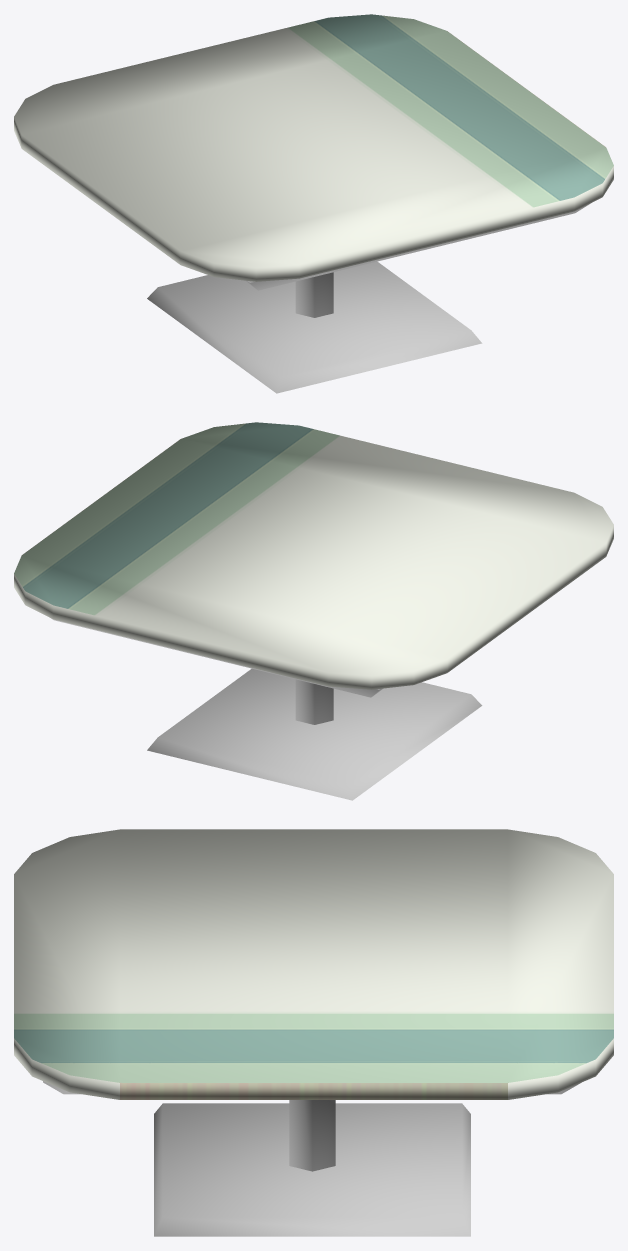
Rendered from Table_LOD0.fbx.
The picture shows the model from 3 angles, top to bottom: view 1: azimuth 30°, elevation 25°; view 2: azimuth 150°, elevation 25°; view 3: azimuth 270°, elevation 25°; orthographic projection. The views are drawn at different scales.
Parts seen in each view (by area): view 1: Table, Table_Under; view 2: Table, Table_Under; view 3: Table, Table_Under.
Boxes of the visible parts, x1,y1,x2,y2 form: Table: (14,14,613,281); Table_Under: (147,203,590,393); Table: (14,422,613,689); Table_Under: (51,618,482,800); Table: (14,829,613,1099); Table_Under: (43,1081,581,1236).
Size of the model in its own units: 179 by 71.98 by 179.
